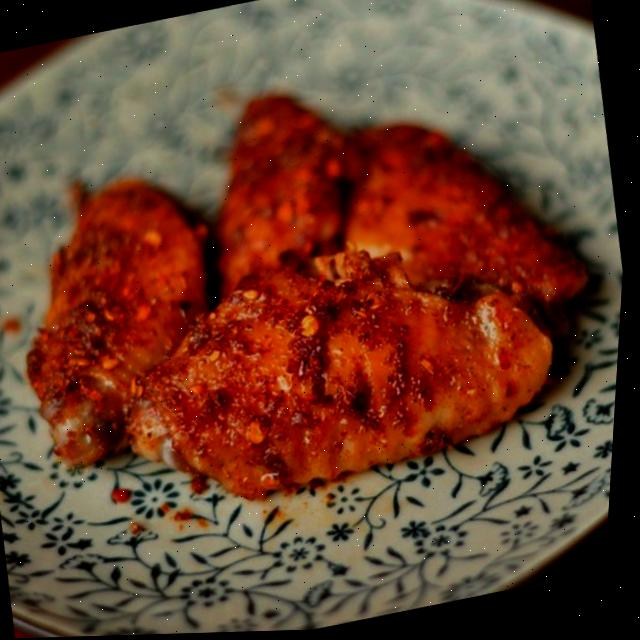熟制海鲜: (0, 26, 638, 572)
